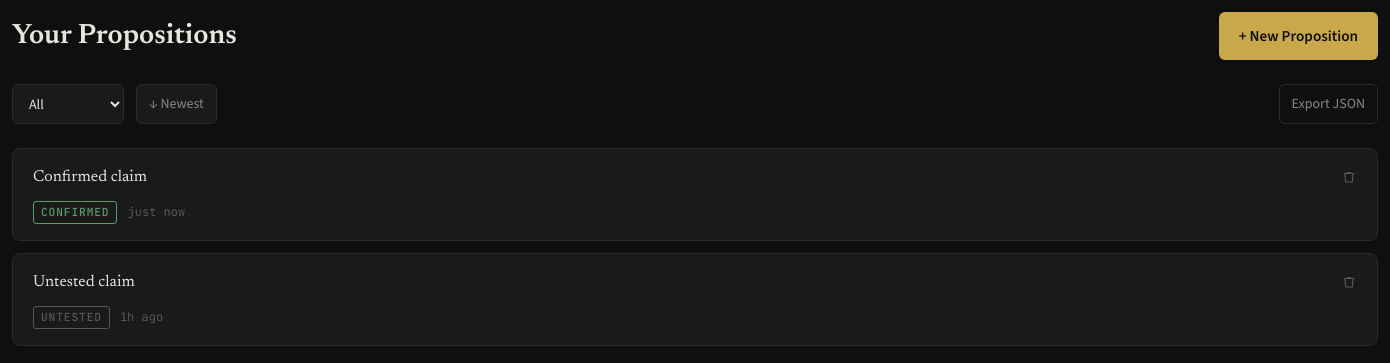
Test: Dashboard › status filter shows only matching propositions
Select "Confirmed" in the dropdown. click: (68, 104)
box: [12, 84, 124, 124]
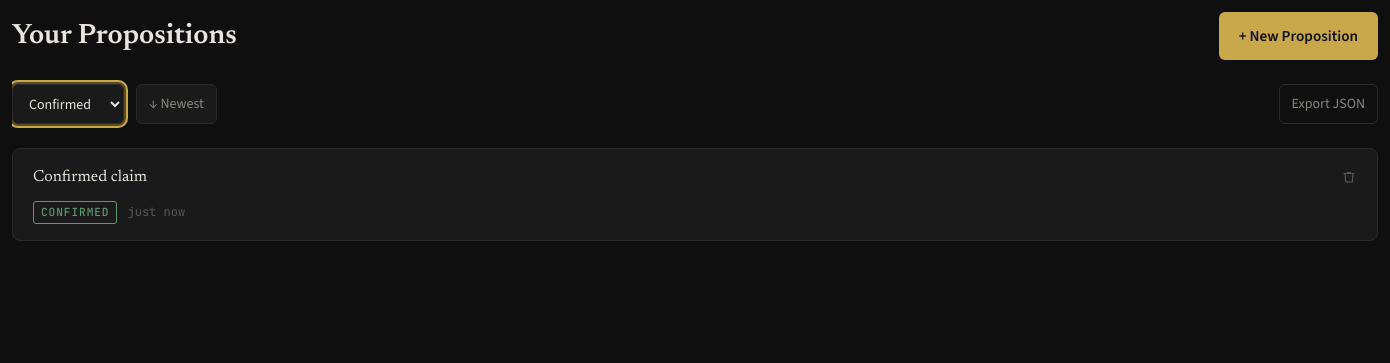
Expected: the text "Confirmed claim" is shown, [33, 169, 147, 185]
Result: the button "Untested claim" is gone
